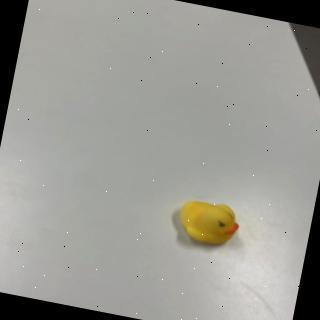duck_regular: (174, 196, 244, 251)
